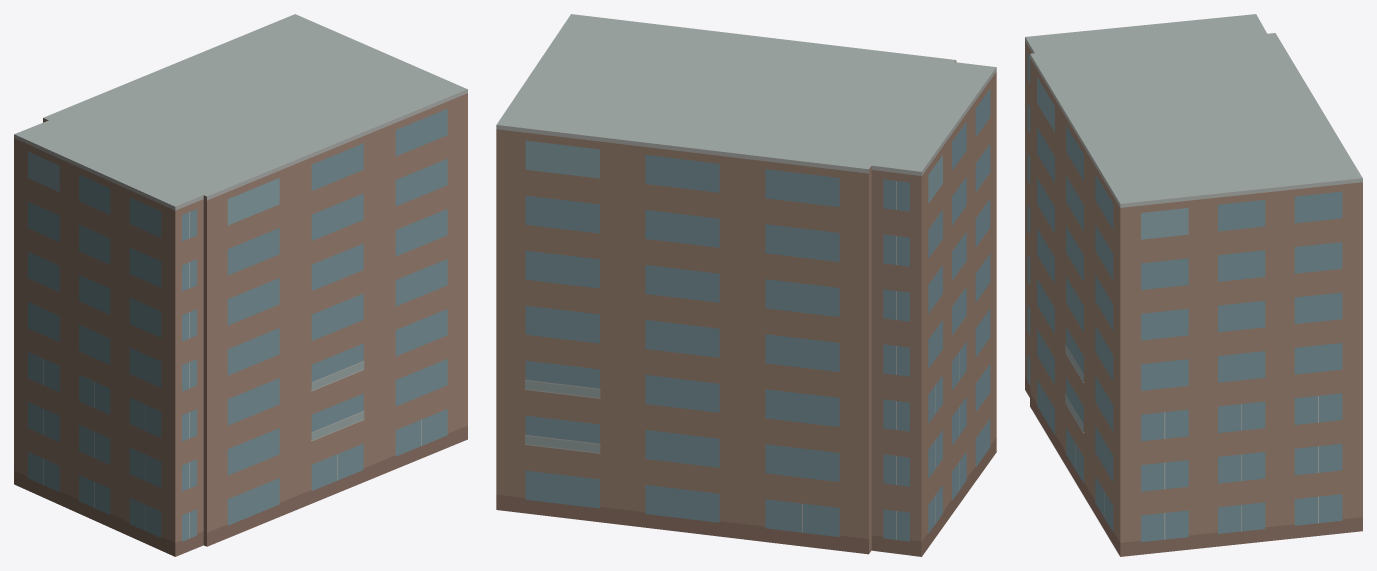
Rendered from survey-upis-32809810.glb.
The picture shows the model from 3 angles, left to right: view 1: azimuth 30°, elevation 25°; view 2: azimuth 150°, elevation 25°; view 3: azimuth 270°, elevation 25°; orthographic projection. The views are drawn at different scales.
Parts seen in each view (by area): view 1: survey-upis-32809810.tmp; view 2: survey-upis-32809810.tmp; view 3: survey-upis-32809810.tmp.
Part boxes in pixels (left/top/right/bottom): survey-upis-32809810.tmp: left=14, top=14, right=467, bottom=556; survey-upis-32809810.tmp: left=496, top=14, right=996, bottom=556; survey-upis-32809810.tmp: left=1025, top=14, right=1362, bottom=556.
Size of the model in its own units: 25.3 by 21.9 by 19.
